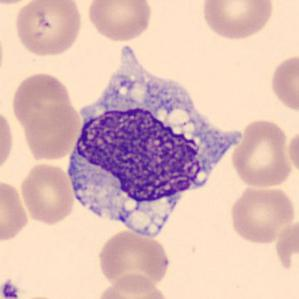Monocyte: (59, 41, 246, 241)
Platelets: (0, 279, 21, 299)
RBC: (95, 228, 172, 292), (229, 117, 294, 189), (227, 182, 296, 245), (10, 0, 84, 58), (9, 70, 76, 133), (18, 160, 77, 226), (21, 101, 83, 162), (200, 0, 276, 41), (85, 0, 154, 43), (0, 177, 31, 244), (96, 272, 170, 299), (267, 52, 299, 114), (0, 107, 16, 177), (285, 126, 299, 178), (0, 24, 6, 85), (12, 294, 67, 299), (0, 0, 42, 6)
